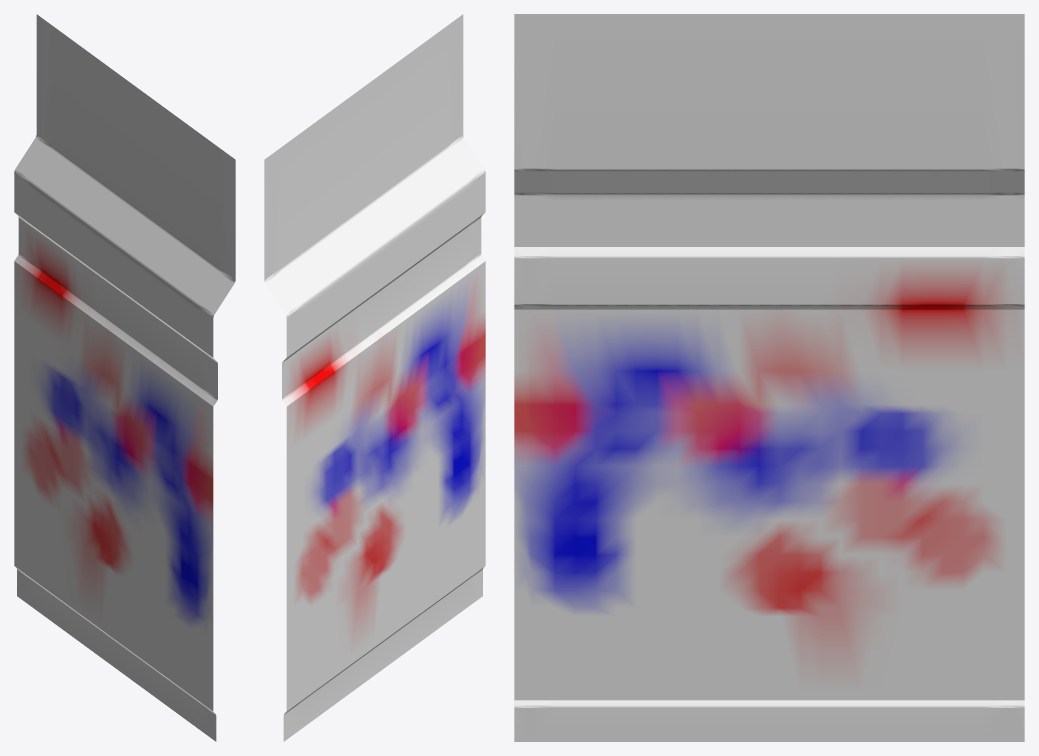
3 views of the same model, side by side, from view 1: azimuth 30°, elevation 25°; view 2: azimuth 150°, elevation 25°; view 3: azimuth 270°, elevation 25° (orthographic). The views are drawn at different scales.
Parts seen in each view (by area): view 1: SM_Platform_Wall_Large_04_LOD0; view 2: SM_Platform_Wall_Large_04_LOD0; view 3: SM_Platform_Wall_Large_04_LOD0.
Part boxes in pixels (<box>): SM_Platform_Wall_Large_04_LOD0: <box>14,14,235,741</box>; SM_Platform_Wall_Large_04_LOD0: <box>264,14,485,741</box>; SM_Platform_Wall_Large_04_LOD0: <box>514,14,1024,741</box>.
Size of the model in its own units: 32.32 by 500 by 800.
